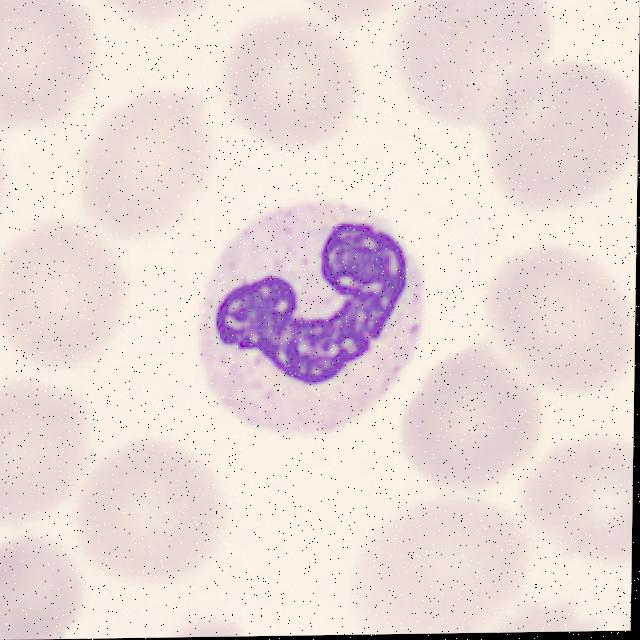neutrophil: (189, 196, 428, 441)
rbc: (338, 501, 528, 635), (489, 64, 635, 205), (399, 0, 550, 129), (489, 246, 627, 385), (89, 436, 224, 572), (401, 360, 533, 498), (88, 90, 203, 233), (0, 224, 118, 363), (0, 368, 92, 527), (234, 8, 343, 140), (519, 434, 633, 559), (0, 0, 90, 127), (0, 535, 80, 640), (497, 602, 605, 632), (294, 0, 422, 25), (105, 0, 218, 25), (0, 134, 22, 218), (166, 621, 248, 637)
